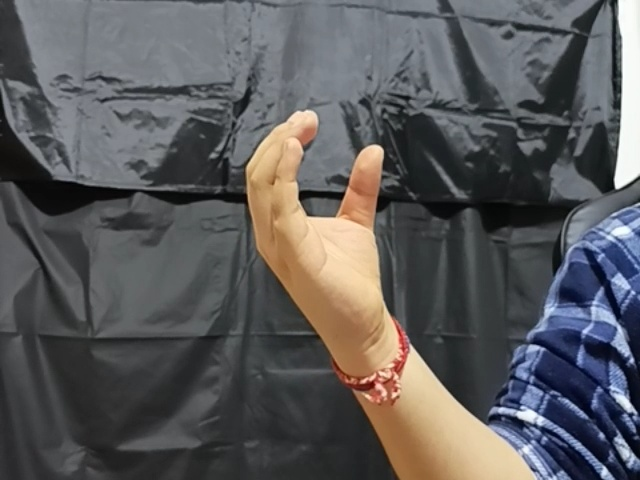C: (244, 109, 405, 332)
